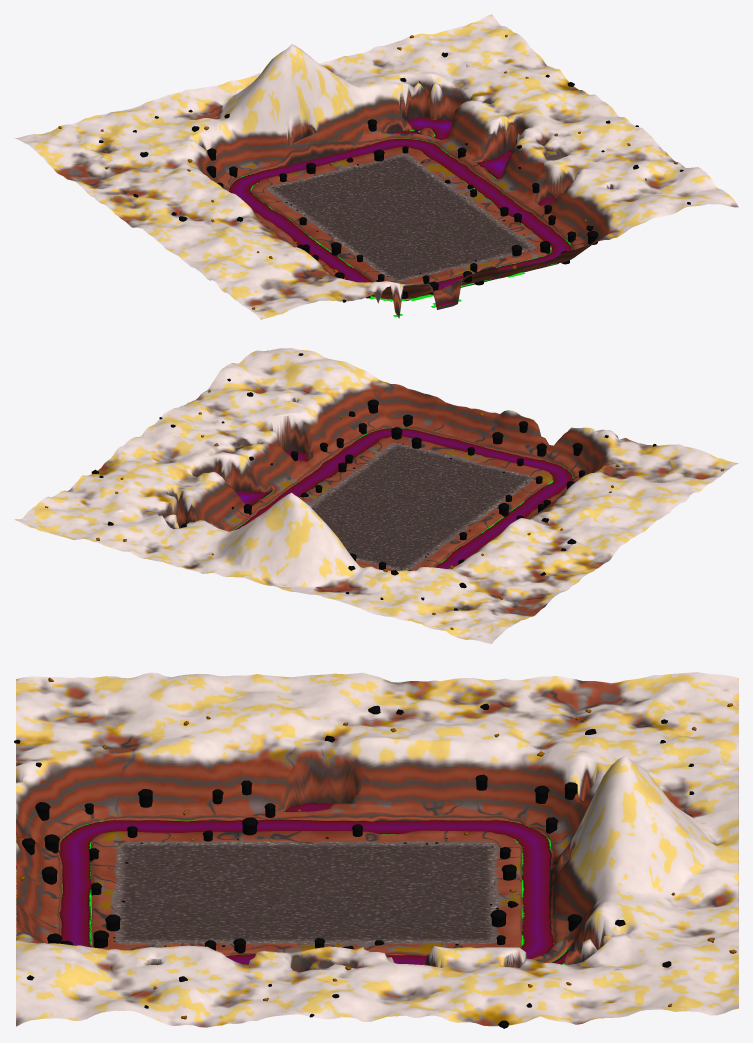
The model's file is surroundings_13x23.glb.
3 views of the same model, one above another, from view 1: azimuth 30°, elevation 25°; view 2: azimuth 150°, elevation 25°; view 3: azimuth 270°, elevation 25° (orthographic). The views are drawn at different scales.
Parts seen in each view (by area): view 1: ground, water, props; view 2: ground, water, props; view 3: ground, water, props.
Part boxes in pixels (x1,y1,x2,y2): ground: (14,14,738,319); water: (228,116,572,317); props: (58,34,690,309); ground: (14,348,738,643); water: (234,427,573,568); props: (45,353,724,629); ground: (16,672,738,1027); water: (59,803,569,964); props: (14,677,736,1028).
Size of the model in its own units: 57.28 by 11.24 by 51.15.
3 materials, 3 textured.
